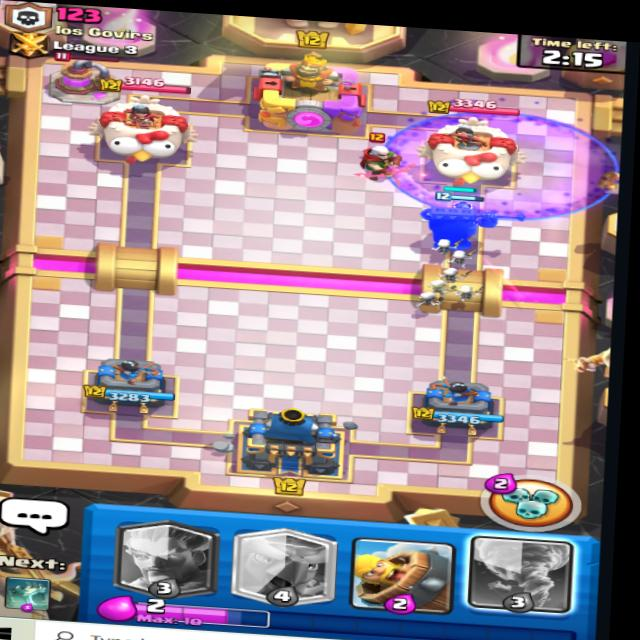elixir-collector: (42, 52, 129, 110)
magic-archer: (345, 133, 416, 189)
